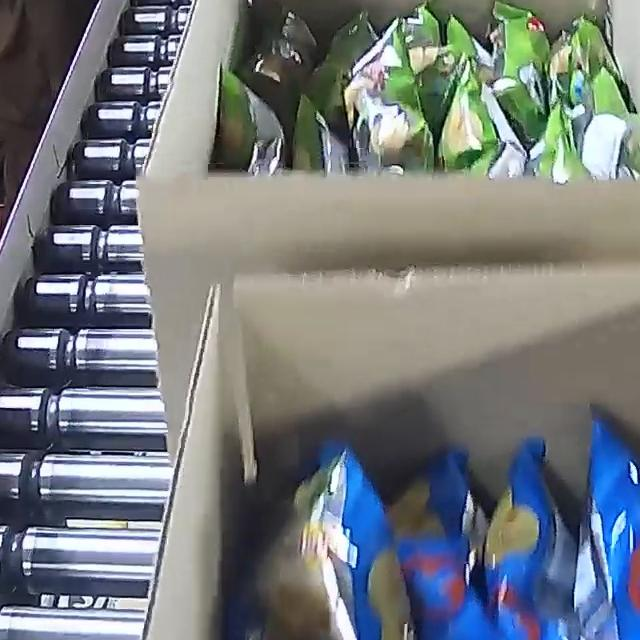paprika: (230, 413, 640, 640)
yogurt: (217, 0, 640, 182)
